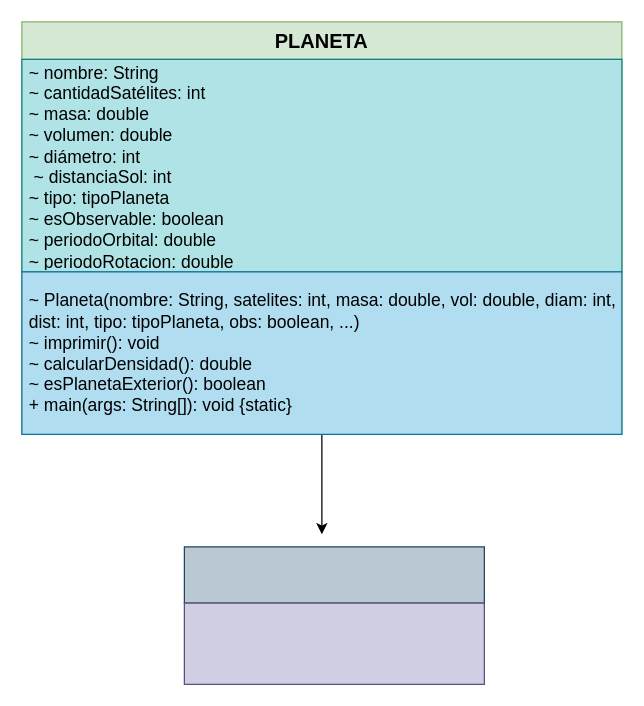
This 644x706 diagram has some shape labels left out. Here are the shapes that lost their labels. From the top down, the centre of each, then its label:
(333,574): <<enumeration>> tipoPlaneta
(333,643): GASEOSO TERRESTRE ENANO
